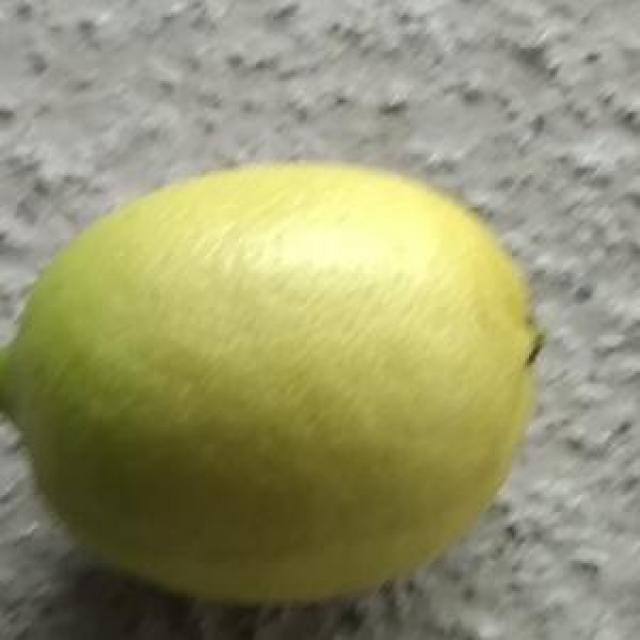lemon: (0, 164, 544, 612)
